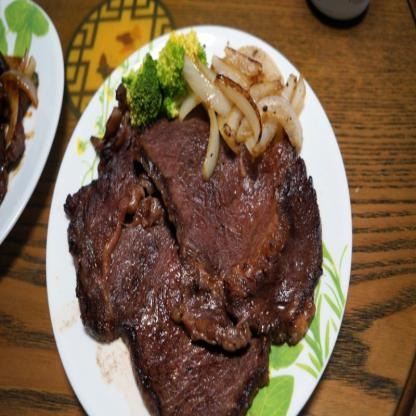Carne: (63, 148, 280, 415), (144, 118, 326, 321)
